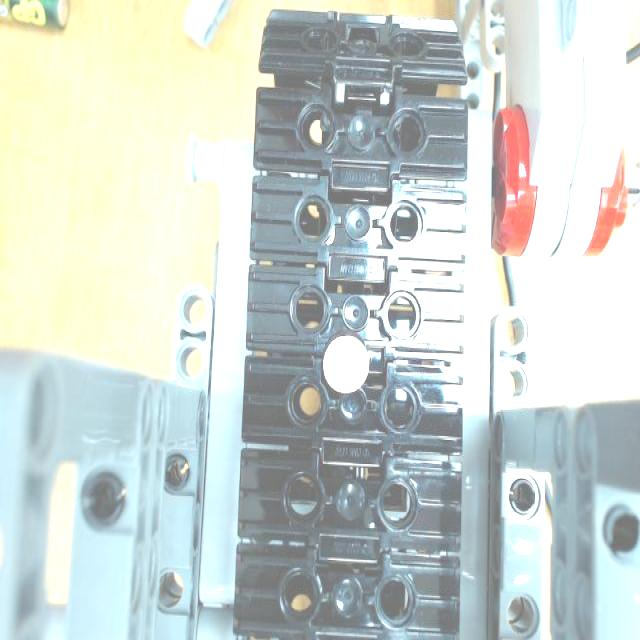COIN: (324, 334, 371, 394)
